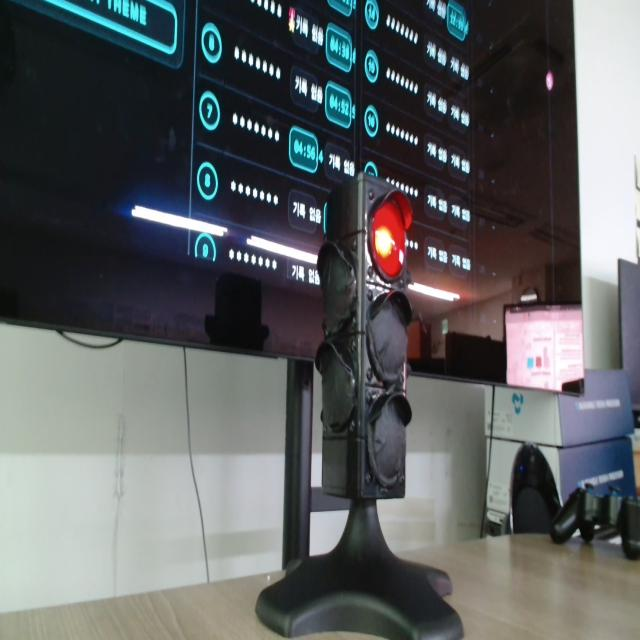red_light: (371, 200, 405, 280)
